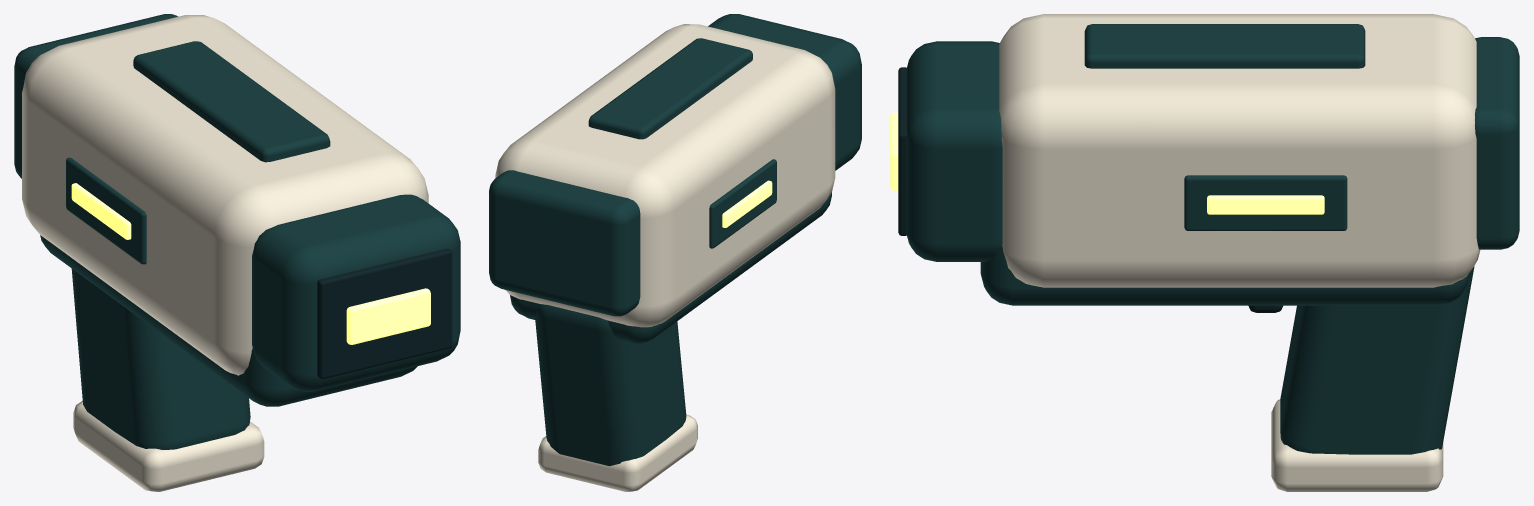
Rendered from bubble-gun.glb.
The picture shows the model from 3 angles, left to right: view 1: azimuth 30°, elevation 25°; view 2: azimuth 150°, elevation 25°; view 3: azimuth 270°, elevation 25°; orthographic projection. The views are drawn at different scales.
Visible parts, largest first — view 1: Batched_Pulse_CeramicShell_42, Batched_Pulse_DeepTealFrame_43, Batched_Pulse_DarkRecess_44, Batched_Pulse_AmberEmitter_45; view 2: Batched_Pulse_DeepTealFrame_43, Batched_Pulse_CeramicShell_42, Batched_Pulse_AmberEmitter_45; view 3: Batched_Pulse_CeramicShell_42, Batched_Pulse_DeepTealFrame_43, Batched_Pulse_AmberEmitter_45, Batched_Pulse_DarkRecess_44.
Boxes of the visible parts, x1=… form: Batched_Pulse_CeramicShell_42: x1=22, y1=15, x2=428, y2=491; Batched_Pulse_DeepTealFrame_43: x1=14, y1=14, x2=460, y2=449; Batched_Pulse_DarkRecess_44: x1=317, y1=248, x2=452, y2=378; Batched_Pulse_AmberEmitter_45: x1=71, y1=183, x2=430, y2=344; Batched_Pulse_DeepTealFrame_43: x1=489, y1=14, x2=861, y2=466; Batched_Pulse_CeramicShell_42: x1=495, y1=24, x2=835, y2=491; Batched_Pulse_AmberEmitter_45: x1=722, y1=180, x2=772, y2=227; Batched_Pulse_CeramicShell_42: x1=999, y1=14, x2=1480, y2=491; Batched_Pulse_DeepTealFrame_43: x1=906, y1=24, x2=1519, y2=454; Batched_Pulse_AmberEmitter_45: x1=890, y1=112, x2=1324, y2=214; Batched_Pulse_DarkRecess_44: x1=898, y1=67, x2=1282, y2=312.
Bounding box in the file's own units: 0.305 × 0.522 × 0.6955.
